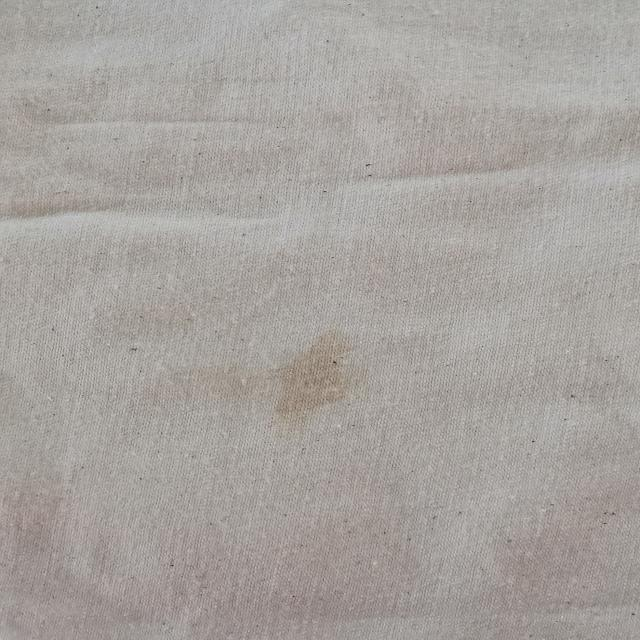taaaches: (240, 315, 386, 434)
